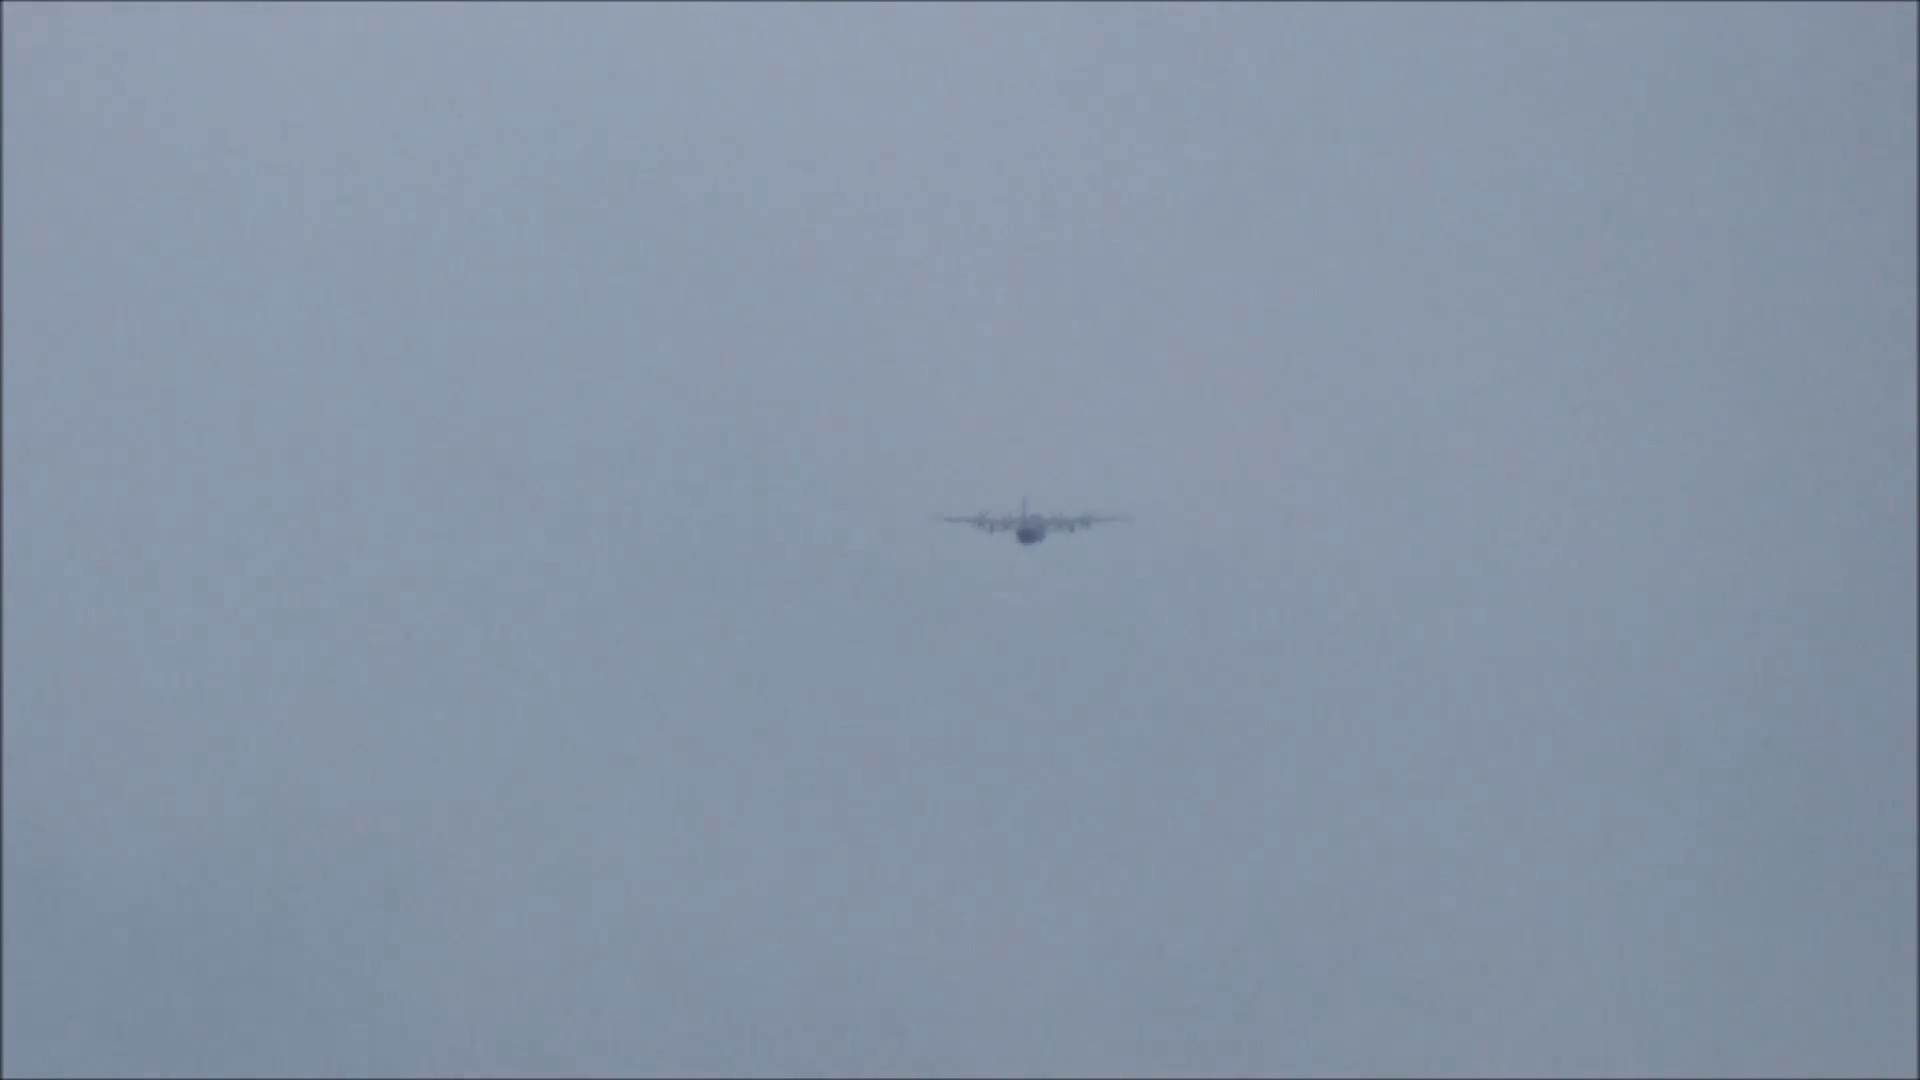Airplane: (944, 488, 1129, 545)
